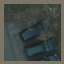car: (21, 20, 52, 41), (27, 39, 55, 57)
